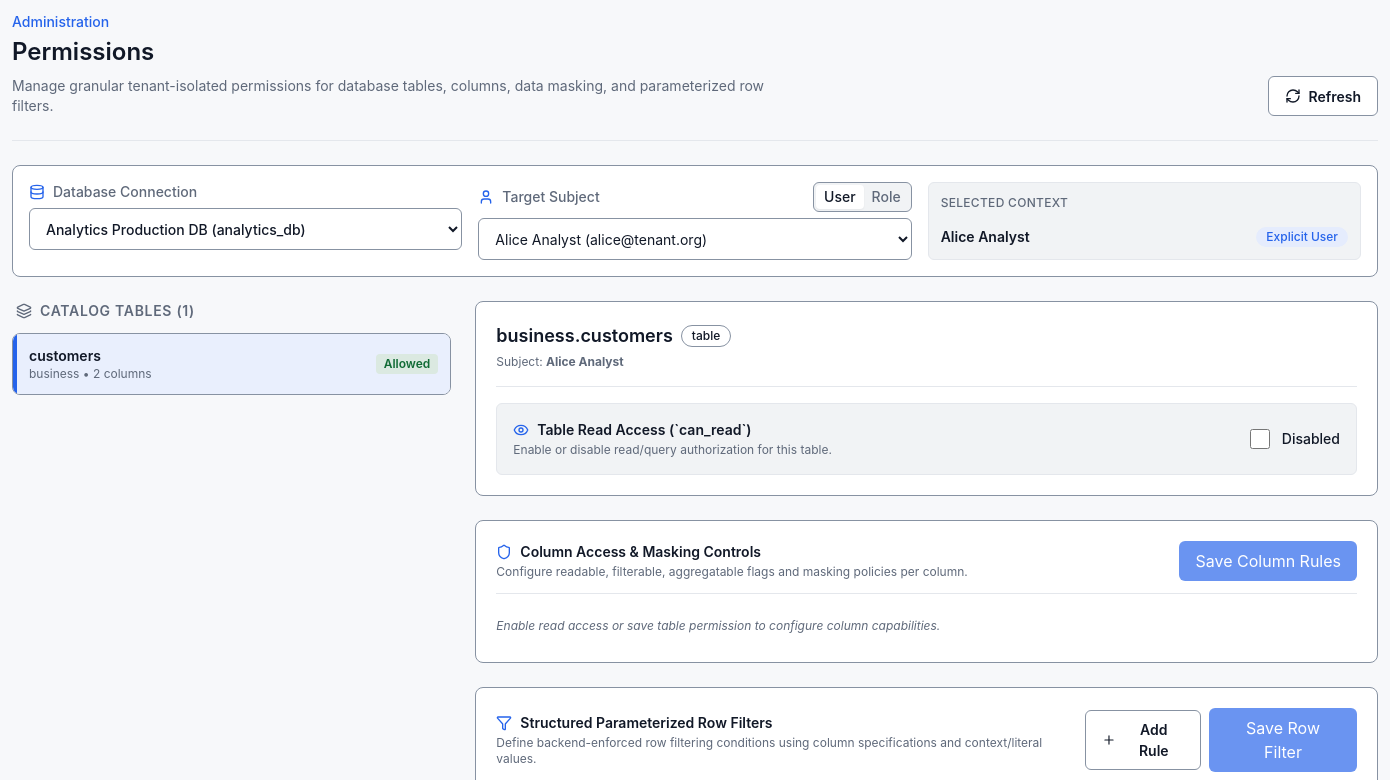
Test: PermissionsWorkspace UI Component › preserves local edits and displays safe error when backend save fails
Click the button "customers business • 2 columns Allowed" at (65, 356), box 13,334 -> 450,394
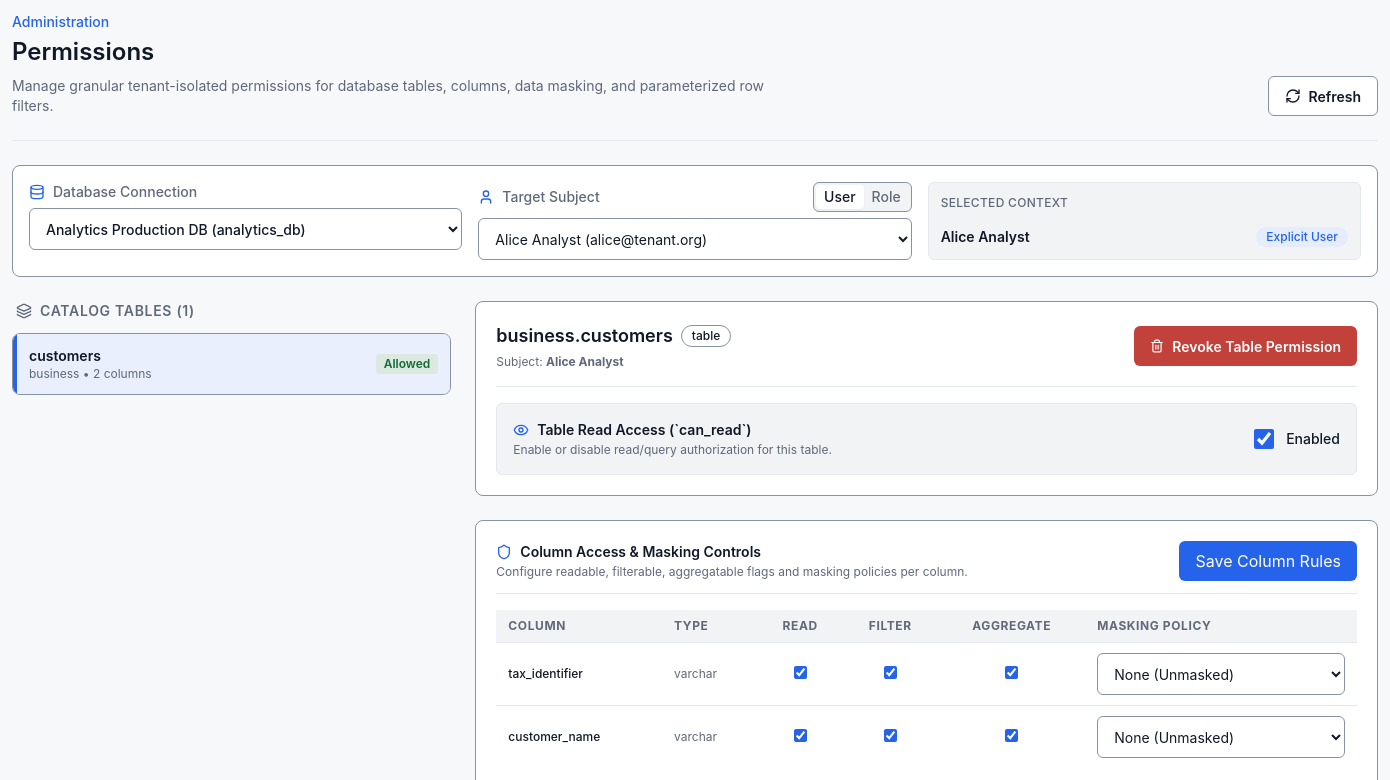
Expected: the button "Save Column Rules" is shown, 1180,541 -> 1357,581
Click the checkbox named "Filter capability for tax_identifier" at (890, 672), box 884,666 -> 897,678
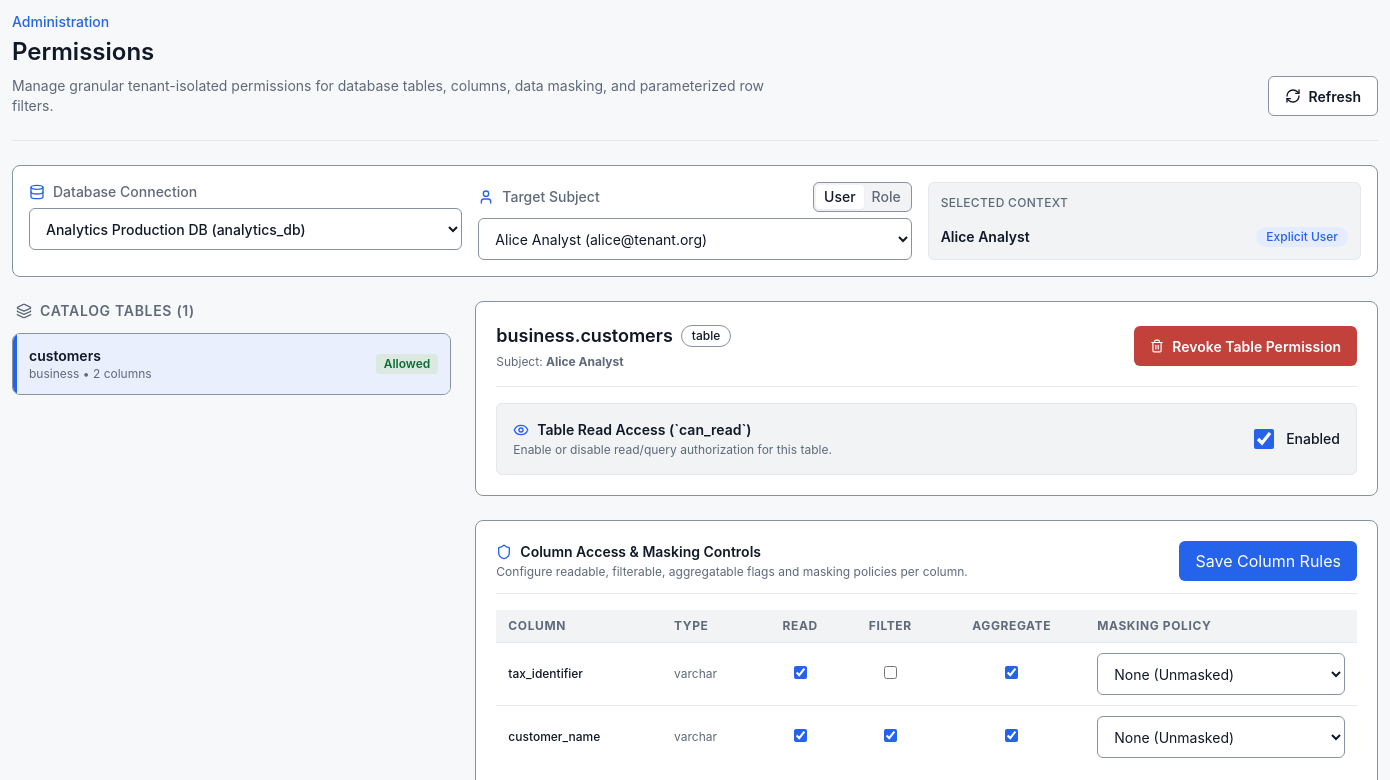
Result: the checkbox named "Filter capability for tax_identifier" is not checked at 884,666 -> 897,678
Click the button "Save Column Rules" at (1268, 561), box 1180,541 -> 1357,581
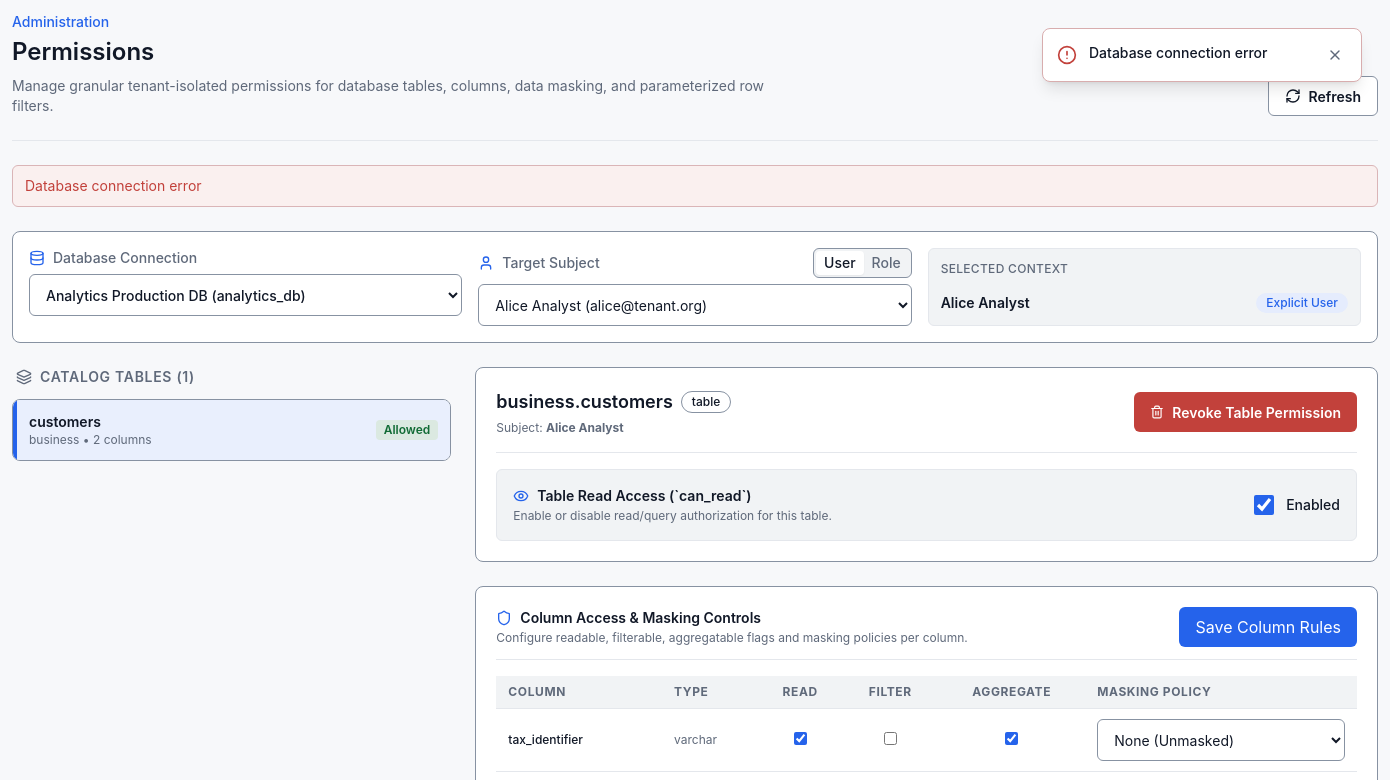
Result: the checkbox named "Filter capability for tax_identifier" is not checked at 884,732 -> 897,744
Result: the button "Save Column Rules" is enabled at 1180,607 -> 1357,647
Result: the text "Database connection error" below "Administration" is shown at 25,177 -> 202,194
